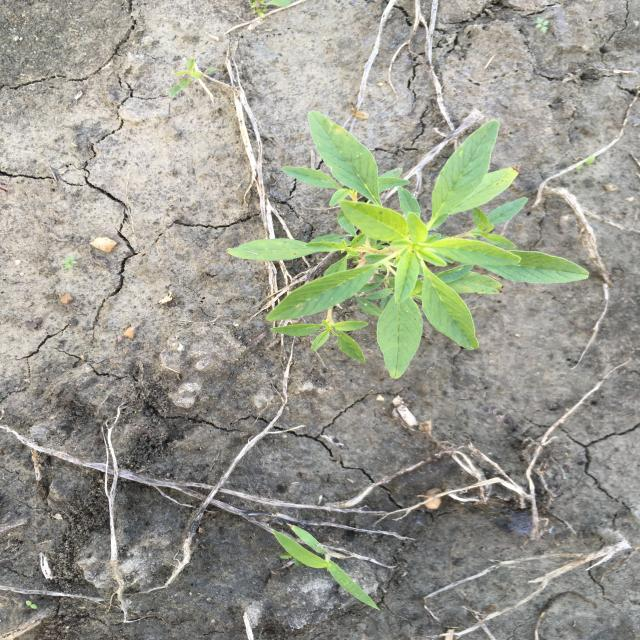Waterhemp: (223, 109, 590, 381)
